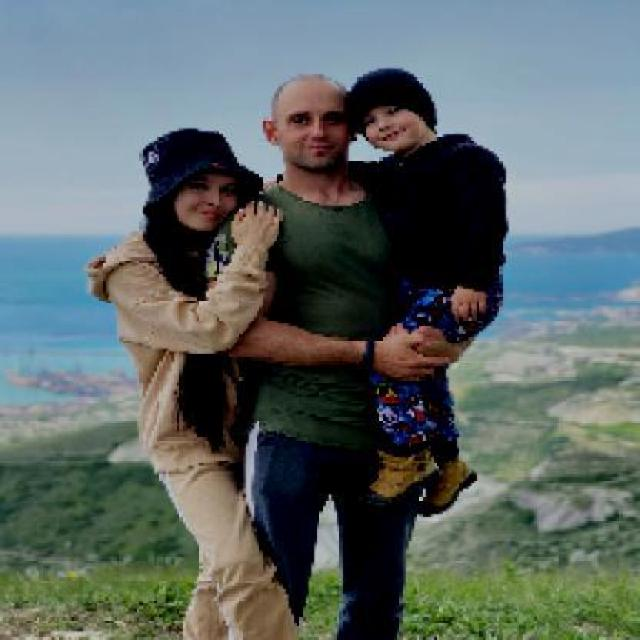child: (348, 64, 512, 516)
